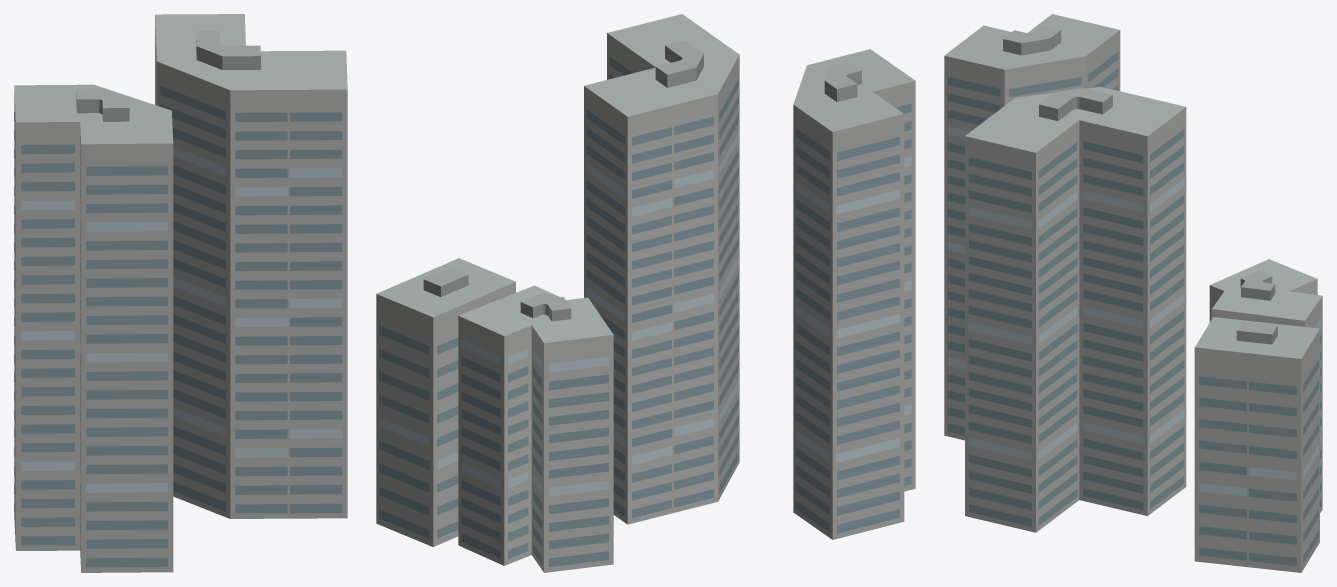
File: apt-a10024490.glb
3 renders of one model, left to right at view 1: azimuth 30°, elevation 25°; view 2: azimuth 150°, elevation 25°; view 3: azimuth 270°, elevation 25°, orthographic. The views are drawn at different scales.
Parts seen in each view (by area): view 1: apt-a10024490; view 2: apt-a10024490; view 3: apt-a10024490.
Part boxes in pixels (bbox=[...]): apt-a10024490: bbox=[14, 14, 347, 572]; apt-a10024490: bbox=[376, 14, 915, 572]; apt-a10024490: bbox=[944, 14, 1322, 572].
Bounding box in the file's own units: 75.42 × 77 × 67.38.
